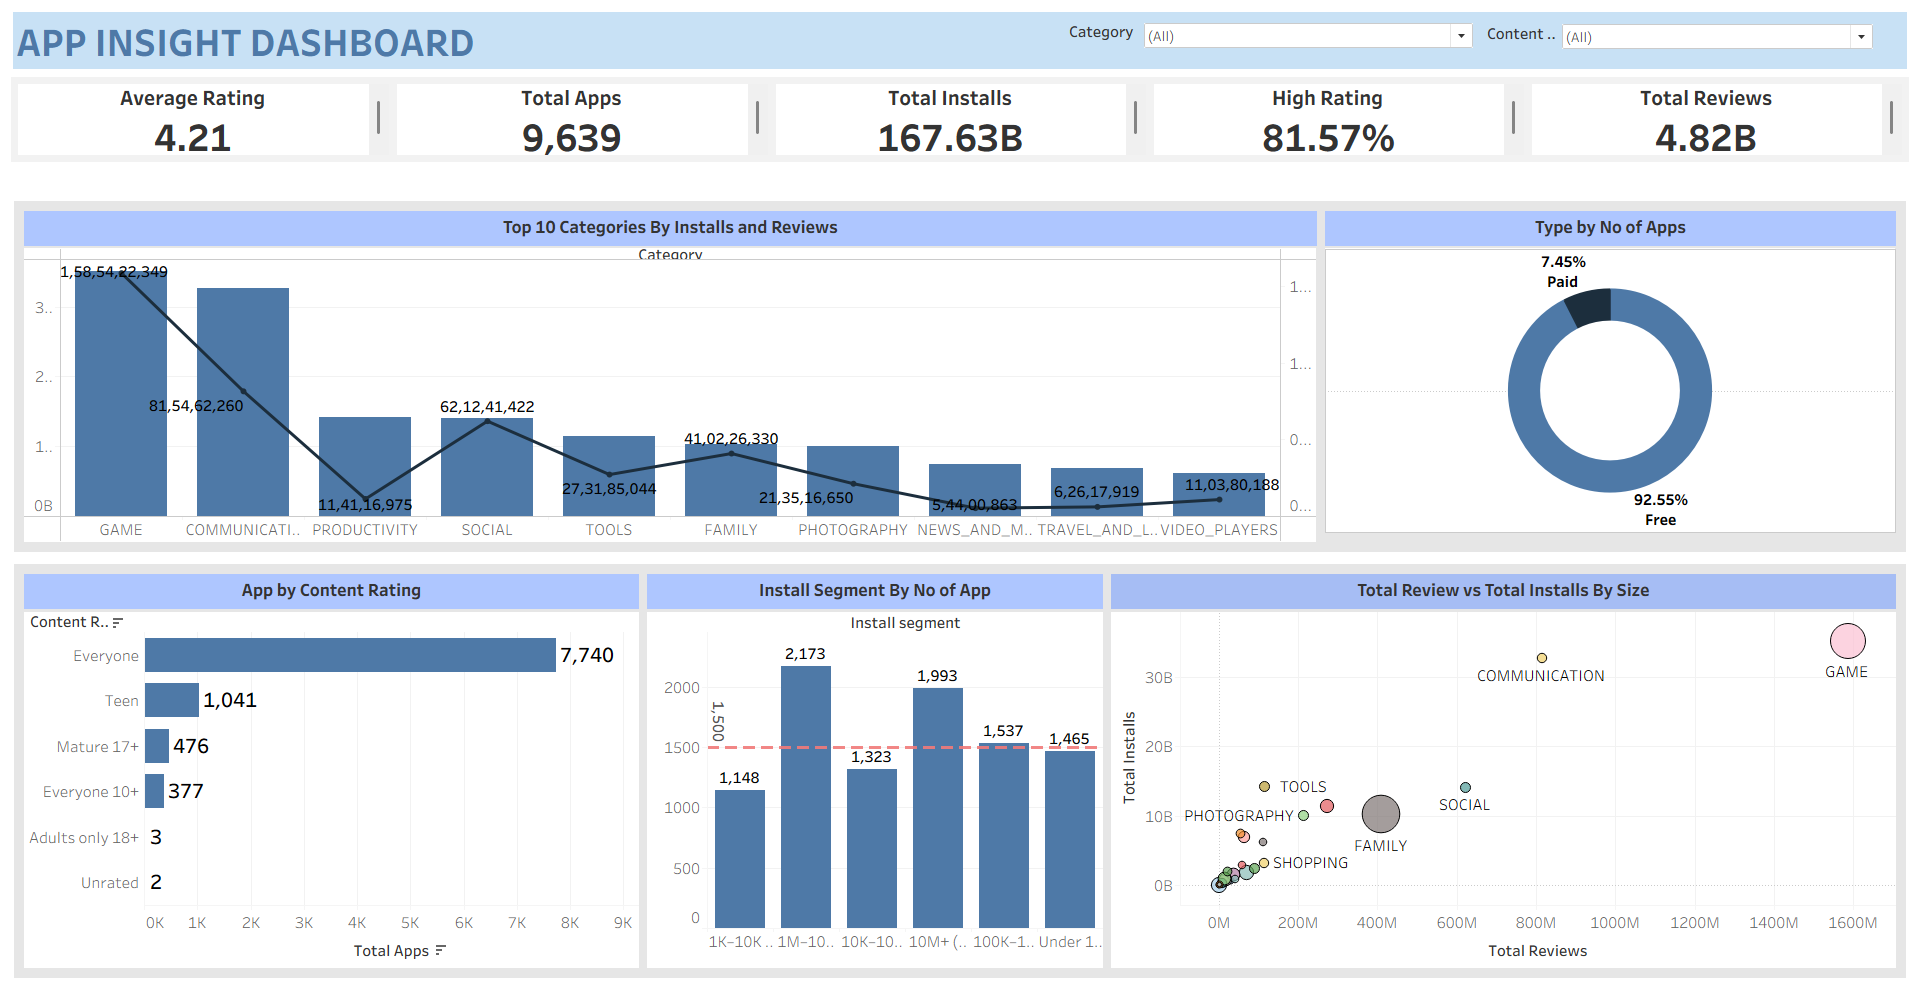

This screenshot's page, from the dashboard's own definition file:
{"tool":"tableau","page":{"name":"Dashboard 1","canvas":[1000,1000],"units":"permille","ordinal":0},"visuals":[{"type":"title","box":[4.9,10,990.2,67.3]},{"type":"filter","title":"Pie chart","param":"[federated.0vadrct0sc14lg11bry8d0yimpow].[none:Category:nk]","box":[556.7,22.5,211.9,28.7]},{"type":"filter","title":"App by Content Rating","param":"[federated.0vadrct0sc14lg11bry8d0yimpow].[none:Content Rating:nk]","box":[774.4,23.7,202.9,27.5]},{"type":"worksheet","title":"Average Rating","mark":"Automatic","box":[8.6,84.9,196.9,98.6]},{"type":"worksheet","title":"Total Apps","mark":"Automatic","box":[205.5,84.9,196.9,98.6]},{"type":"worksheet","title":"Total Installs","mark":"Automatic","box":[402.4,84.9,196.3,98.6]},{"type":"worksheet","title":"High Rating","mark":"Automatic","box":[598.8,84.9,196.3,98.6]},{"type":"worksheet","title":"Total Reviews","mark":"Automatic","box":[795.1,84.9,196.3,98.6]},{"type":"worksheet","title":"Top 10 Categories By Installs and Reviews","mark":"Automatic","rows":["Installs","Reviews"],"cols":["Category"],"box":[12.3,213.3,798.2,334.6]},{"type":"worksheet","title":"Pie chart","mark":"Pie","rows":["Calculation_0732592886325255","Calculation_0732592886325255"],"box":[810.4,213.3,177.3,334.6]},{"type":"worksheet","title":"App by Content Rating","mark":"Automatic","rows":["Content Rating"],"cols":["Calculation_0732592871555072"],"box":[12.3,577.9,382.2,397.1]},{"type":"worksheet","title":"Sheet 11","mark":"Bar","rows":["Calculation_0732592871555072"],"cols":["Calculation_0732592905240584"],"box":[394.5,577.9,284.7,397.1]},{"type":"worksheet","title":"Scatter plot","mark":"Circle","rows":["Calculation_0732592877162498"],"cols":["Calculation_0732592879329284"],"box":[679.1,577.9,308.6,397.1]}]}

Visuals, with their boxes on the dashboard's canvas, which has no fixed pixel size, in thousandths of its width and height (x1, y1, x2, y2). These are canvas units, not pixel positions in the 1919x986 screenshot, which may show the page scaled, cropped or inside an application window:
title: 5,10,995,77
"Pie chart" filter: 557,22,769,51
"App by Content Rating" filter: 774,24,977,51
"Average Rating" worksheet: 9,85,206,184
"Total Apps" worksheet: 206,85,402,184
"Total Installs" worksheet: 402,85,599,184
"High Rating" worksheet: 599,85,795,184
"Total Reviews" worksheet: 795,85,991,184
"Top 10 Categories By Installs and Reviews" worksheet: 12,213,810,548
"Pie chart" worksheet (Pie marks): 810,213,988,548
"App by Content Rating" worksheet: 12,578,394,975
"Sheet 11" worksheet (Bar marks): 394,578,679,975
"Scatter plot" worksheet (Circle marks): 679,578,988,975
